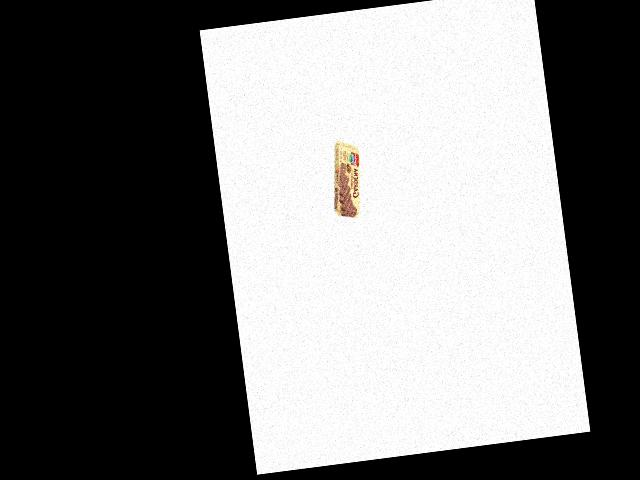chocolate: (328, 135, 369, 224)
